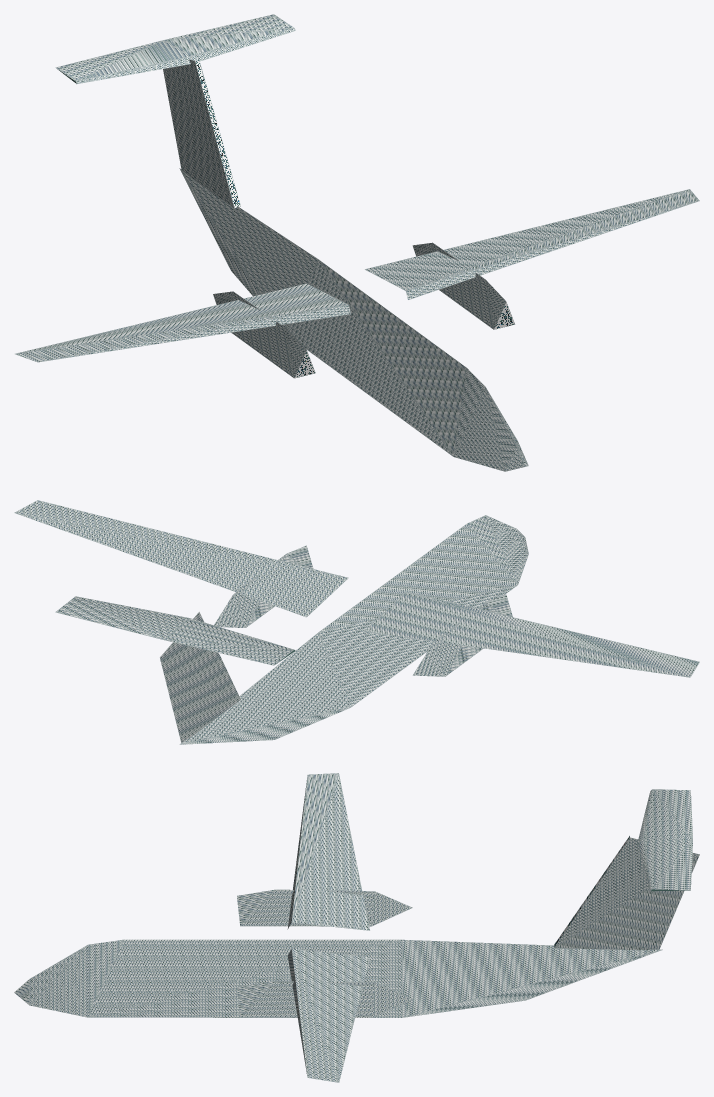
The model's file is TFS_DH8C_lod2.gltf.
3 renders of one model, top to bottom at view 1: azimuth 30°, elevation 25°; view 2: azimuth 150°, elevation 25°; view 3: azimuth 270°, elevation 25°, orthographic. The views are drawn at different scales.
Visible parts, largest first — view 1: node1.002; view 2: node1.002; view 3: node1.002.
Part boxes in pixels (x1,y1,x2,y2): node1.002: (15,14,699,471); node1.002: (14,500,699,744); node1.002: (14,773,699,1082).
Bounding box in the file's own units: 27.44 × 6.89 × 25.69.
